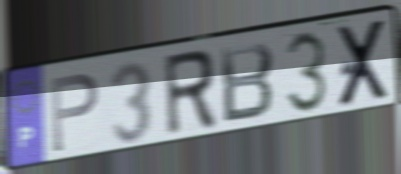3: (109, 55, 156, 149), (282, 29, 329, 117)
B: (218, 40, 276, 127)
P: (48, 70, 101, 156)
R: (161, 47, 220, 141)
X: (335, 15, 392, 111)
